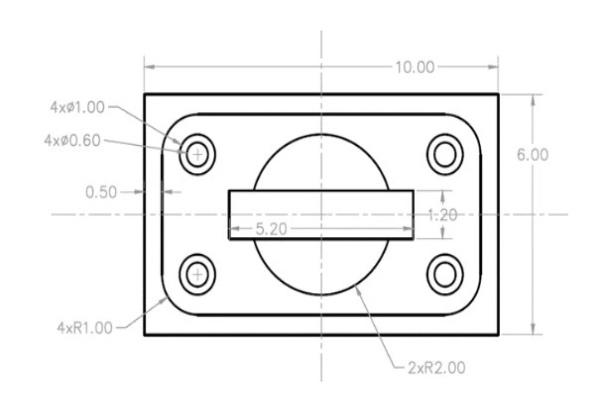dimensions: (39, 91, 111, 118), (405, 355, 476, 380), (50, 316, 115, 339), (38, 130, 105, 150), (512, 137, 555, 167), (421, 200, 465, 227), (75, 179, 122, 203), (395, 56, 439, 78), (255, 220, 291, 237)
